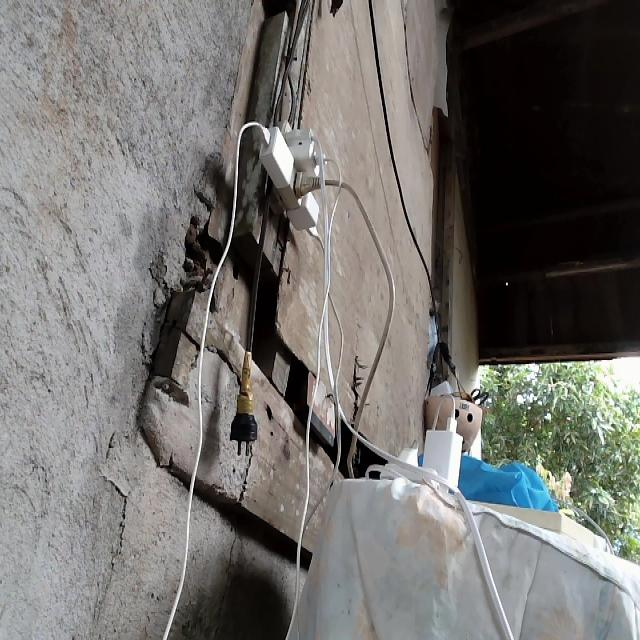-: (253, 117, 341, 244)
